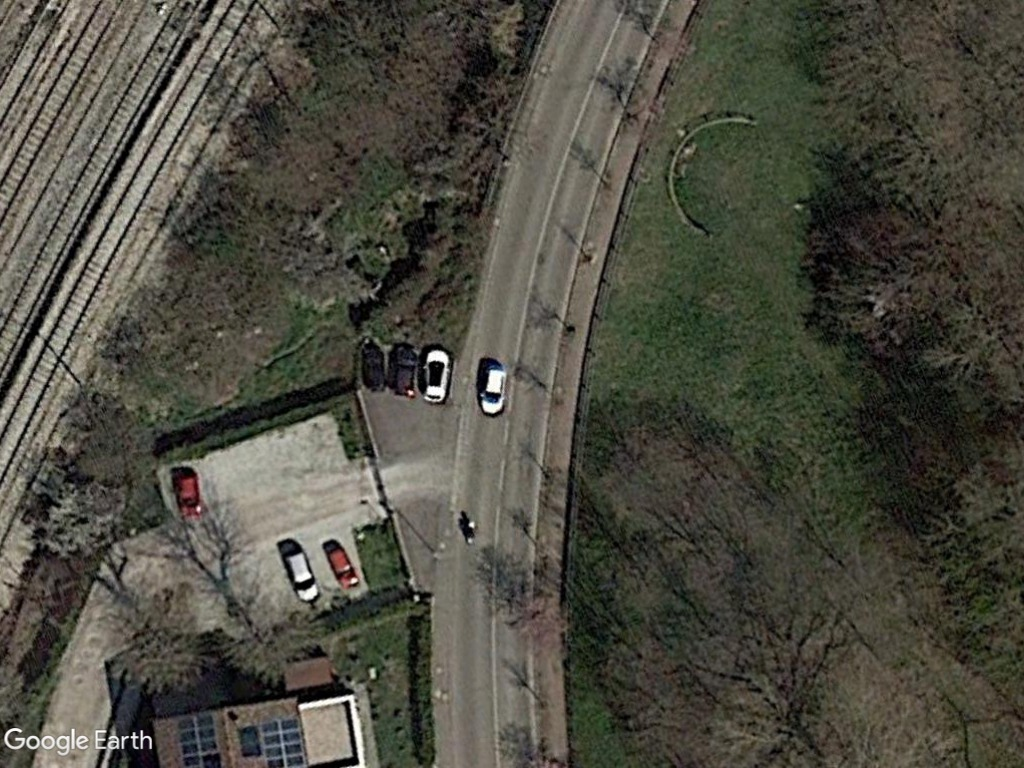car: (419, 346, 454, 408), (321, 540, 362, 591), (170, 468, 205, 522), (477, 364, 510, 420)
other: (388, 343, 420, 401)
van: (279, 550, 320, 605)
